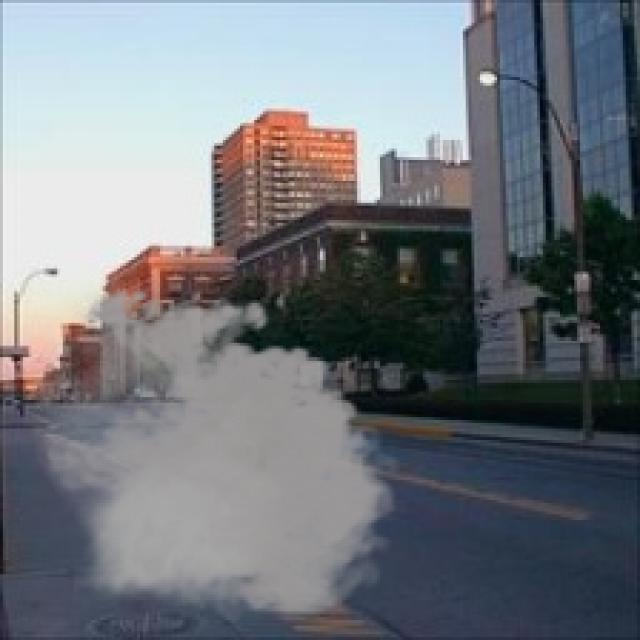Smoke: (22, 277, 408, 629)
